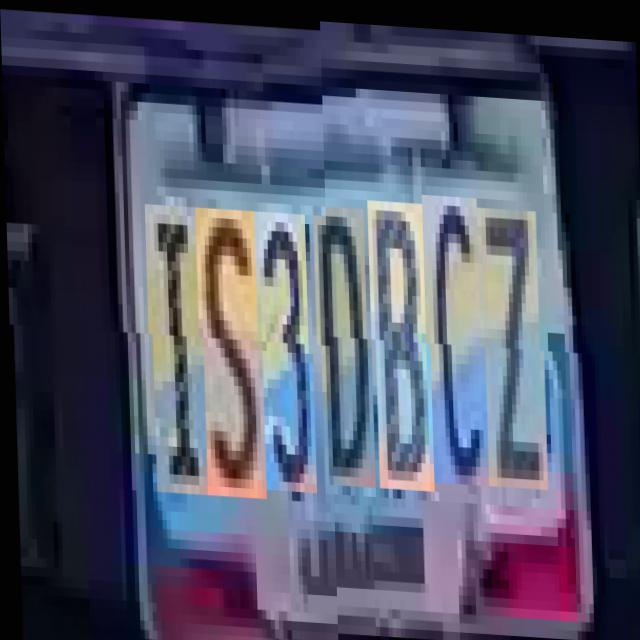3: (258, 208, 314, 489)
B: (371, 205, 432, 495)
C: (426, 198, 486, 488)
D: (316, 211, 374, 492)
I: (148, 202, 209, 492)
S: (198, 204, 264, 496)
Z: (480, 210, 546, 492)
